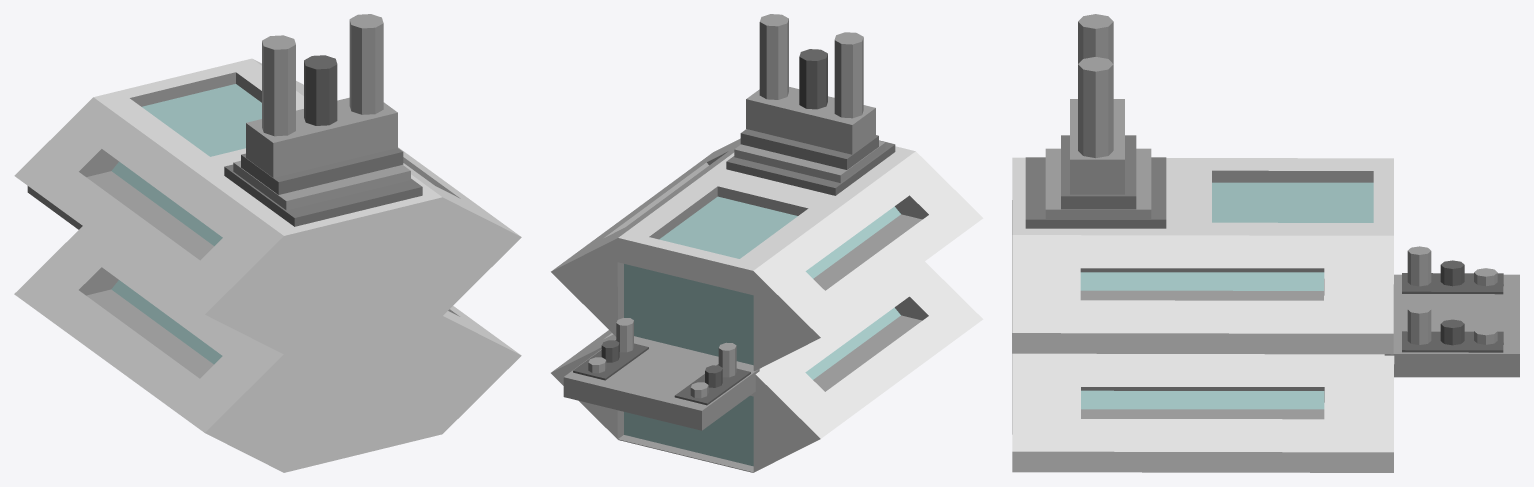
File: FBX Ship Hanger Stage 2.fbx
3 views of the same model, side by side, from view 1: azimuth 30°, elevation 25°; view 2: azimuth 150°, elevation 25°; view 3: azimuth 270°, elevation 25° (orthographic). The views are drawn at different scales.
Visible parts, largest first — view 1: pCube7, pasted__pCylinder4, pasted__pasted__pasted__pasted__pCube4, pasted__pasted__pasted__pCylinder5, pasted__pCube4, pasted__pasted__pasted__pCube4, pasted__pasted__pCube4, pasted__pasted__pCylinder5; view 2: pCube7, pasted__pCylinder4, pCube5, pasted__pasted__pasted__pasted__pCube4, pasted__pasted__pasted__pCylinder5, pasted__pCube4, pasted__pasted__pasted__pCube4, pasted__pasted__pCube4, pasted__pasted__pCylinder5, polySurface19, pasted__polySurface19, polySurface17 (+1 smaller); view 3: pCube7, pasted__pCylinder4, pCube5, pasted__pasted__pasted__pCylinder5, pasted__pCube4, pasted__pasted__pasted__pasted__pCube4, pasted__pasted__pCube4, pasted__pasted__pasted__pCube4, polySurface19, pasted__polySurface19, pasted__polySurface17, polySurface17 (+2 smaller).
Part boxes in pixels (<box>): pCube7: <box>14,58,521,354</box>; pasted__pCylinder4: <box>14,226,521,472</box>; pasted__pasted__pasted__pasted__pCube4: <box>246,97,397,177</box>; pasted__pasted__pasted__pCylinder5: <box>262,14,383,136</box>; pasted__pCube4: <box>224,164,422,226</box>; pasted__pasted__pasted__pCube4: <box>241,147,403,194</box>; pasted__pasted__pCube4: <box>233,160,410,210</box>; pasted__pasted__pCylinder5: <box>304,55,337,125</box>; pCube7: <box>551,138,983,371</box>; pasted__pCylinder4: <box>551,261,983,472</box>; pCube5: <box>563,338,759,430</box>; pasted__pasted__pasted__pasted__pCube4: <box>746,87,875,154</box>; pasted__pasted__pasted__pCylinder5: <box>759,14,863,118</box>; pasted__pCube4: <box>726,140,895,195</box>; pasted__pasted__pasted__pCube4: <box>740,129,878,169</box>; pasted__pasted__pCube4: <box>734,141,885,182</box>; pasted__pasted__pCylinder5: <box>799,49,827,109</box>; polySurface19: <box>573,339,648,380</box>; pasted__polySurface19: <box>674,364,750,405</box>; polySurface17: <box>718,342,736,377</box>; pCube7: <box>1012,157,1393,354</box>; pasted__pCylinder4: <box>1012,353,1394,472</box>; pCube5: <box>1384,274,1519,377</box>; pasted__pasted__pasted__pCylinder5: <box>1078,14,1113,158</box>; pasted__pCube4: <box>1025,157,1166,228</box>; pasted__pasted__pasted__pasted__pCube4: <box>1070,99,1124,194</box>; pasted__pasted__pCube4: <box>1045,148,1151,218</box>; pasted__pasted__pasted__pCube4: <box>1061,135,1136,209</box>; polySurface19: <box>1402,331,1503,352</box>; pasted__polySurface19: <box>1402,273,1503,294</box>; pasted__polySurface17: <box>1407,305,1431,344</box>; polySurface17: <box>1407,246,1431,286</box>.
Size of the model in its own units: 17.6 by 20.78 by 24.4.
